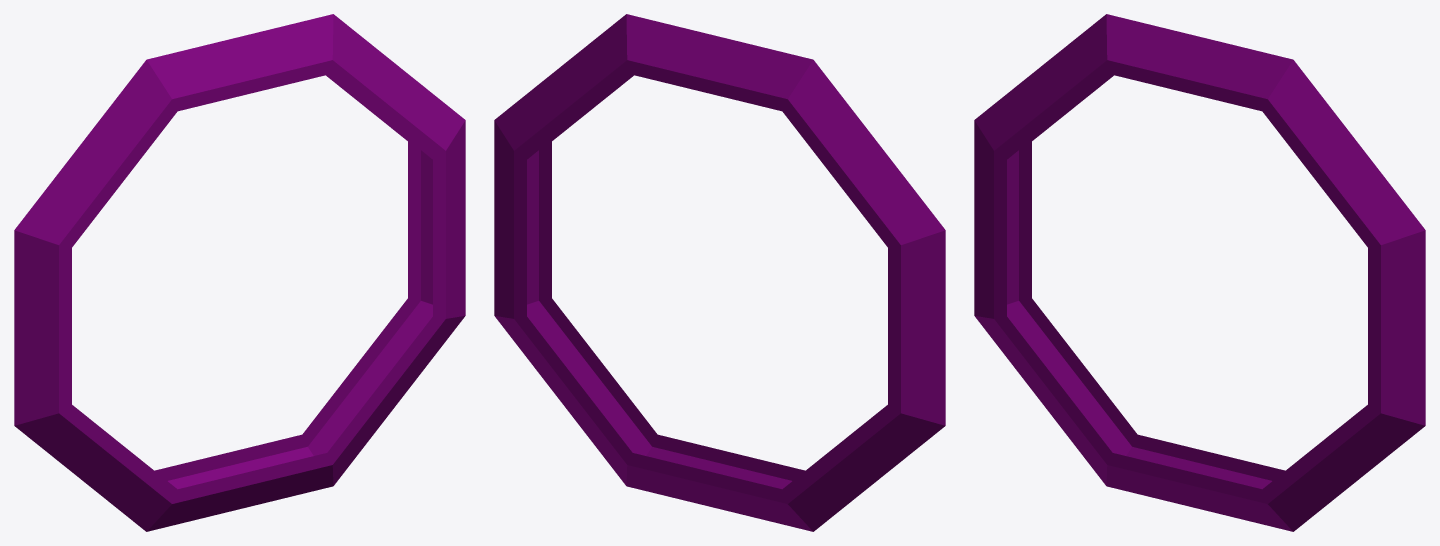
File: fix.obj
3 renders of one model, left to right at view 1: azimuth 30°, elevation 25°; view 2: azimuth 150°, elevation 25°; view 3: azimuth 330°, elevation 25°, orthographic.
Bounding box in the file's own units: 1260 × 1260 × 121.
